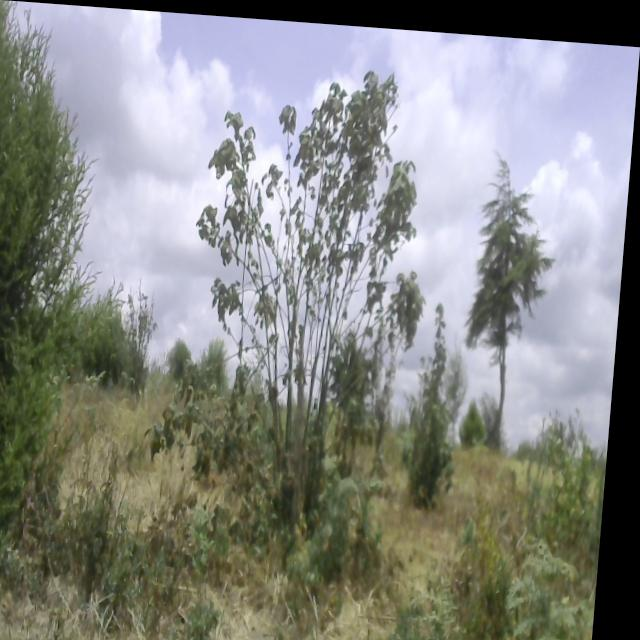cedrus: (468, 113, 569, 456)
